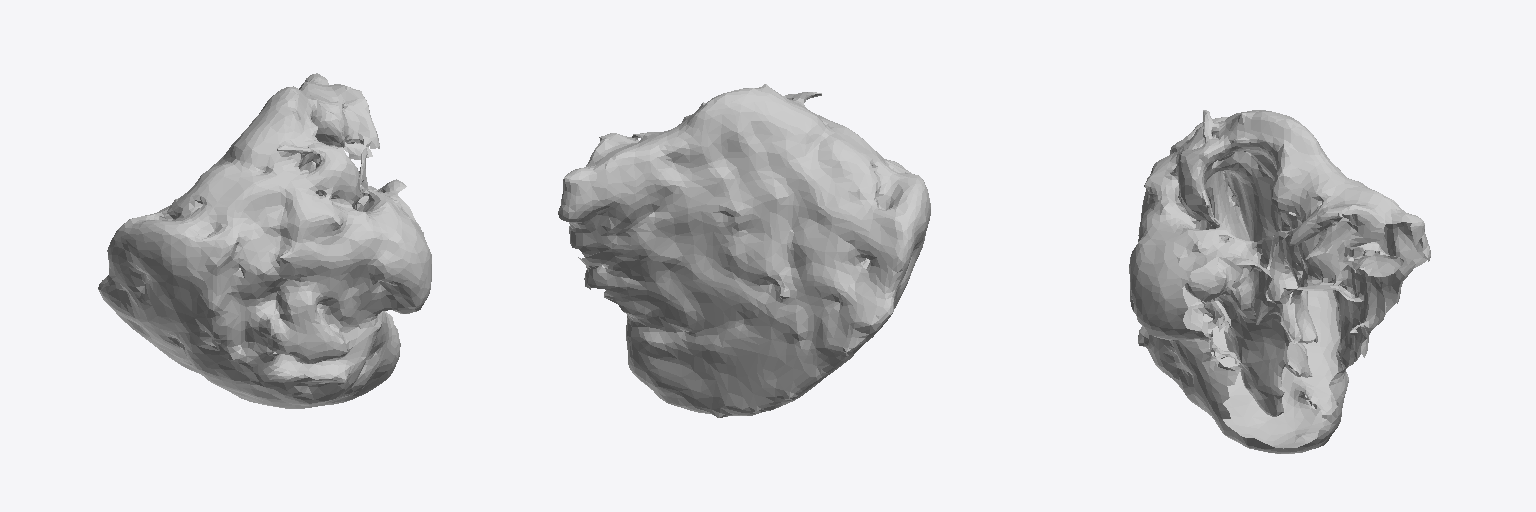
Rendered from R-Cerebellum-Cortex.obj.
The picture shows the model from 3 angles: view 1: azimuth 30°, elevation 25°; view 2: azimuth 150°, elevation 25°; view 3: azimuth 270°, elevation 25°; orthographic projection.
Parts seen in each view (by area): view 1: R_Cerebellum-Cortex_Left-Cerebellum-Cortex.001; view 2: R_Cerebellum-Cortex_Left-Cerebellum-Cortex.001; view 3: R_Cerebellum-Cortex_Left-Cerebellum-Cortex.001.
Part boxes in pixels (left/top/right/bottom): R_Cerebellum-Cortex_Left-Cerebellum-Cortex.001: left=98, top=73, right=431, bottom=408; R_Cerebellum-Cortex_Left-Cerebellum-Cortex.001: left=558, top=84, right=930, bottom=417; R_Cerebellum-Cortex_Left-Cerebellum-Cortex.001: left=1129, top=110, right=1430, bottom=453.
Bounding box in the file's own units: 200 × 208 × 182.